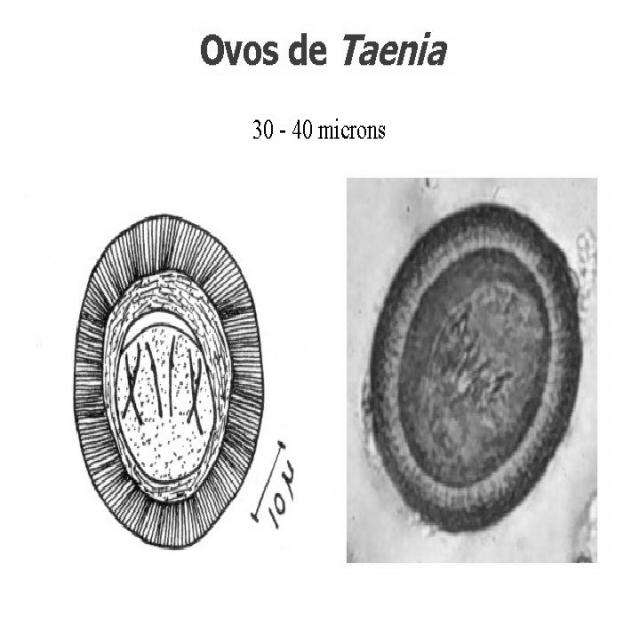Taenia Sp: (362, 195, 588, 543)
